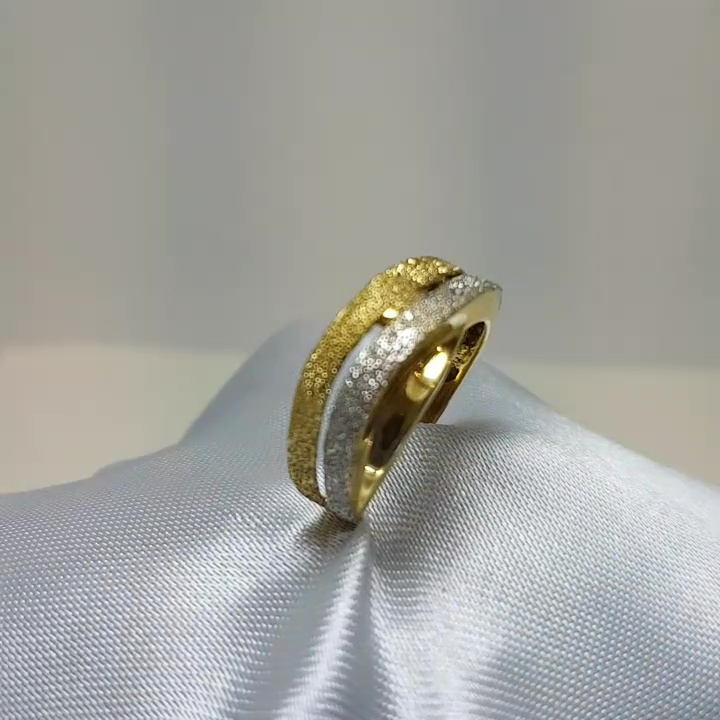Ring 5: (240, 237, 512, 545)
